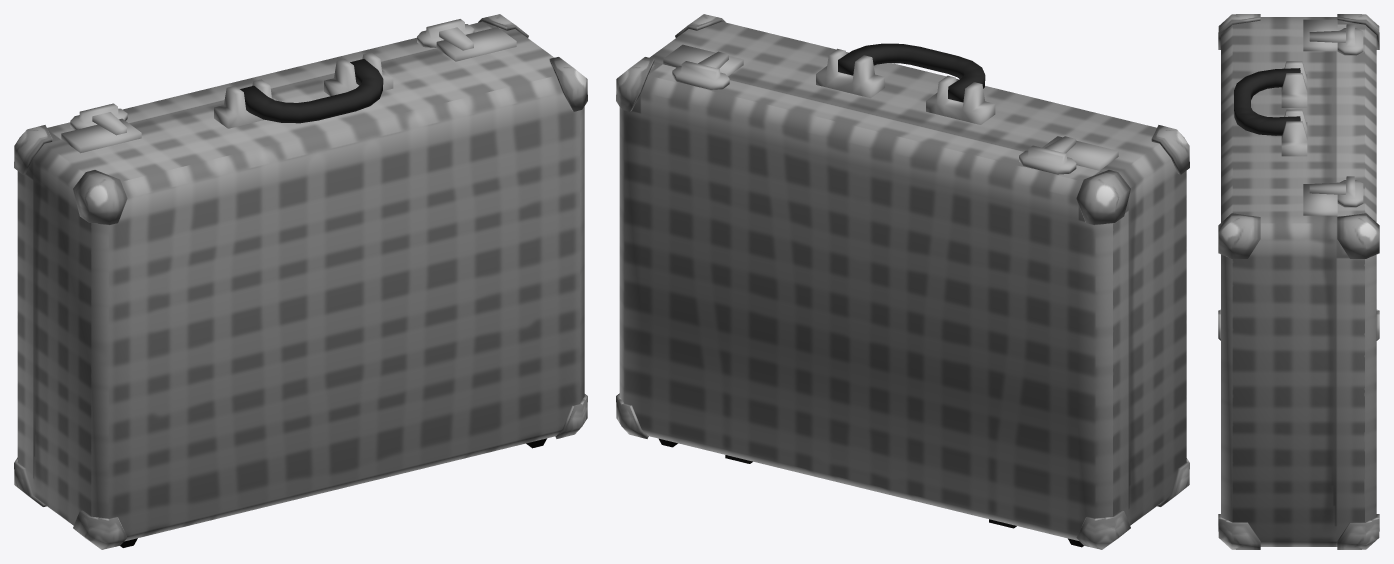
File: obj_Suitcase1.fbx
3 views of the same model, side by side, from view 1: azimuth 30°, elevation 25°; view 2: azimuth 150°, elevation 25°; view 3: azimuth 270°, elevation 25° (orthographic). The views are drawn at different scales.
Parts seen in each view (by area): view 1: obj_Suitcase1; view 2: obj_Suitcase1; view 3: obj_Suitcase1.
Boxes of the visible parts, x1,y1,x2,y2 form: obj_Suitcase1: (14, 14, 587, 549); obj_Suitcase1: (616, 14, 1189, 549); obj_Suitcase1: (1218, 14, 1379, 549).
Bounding box in the file's own units: 0.6653 × 0.5116 × 0.2076.
1 material, 1 textured.
